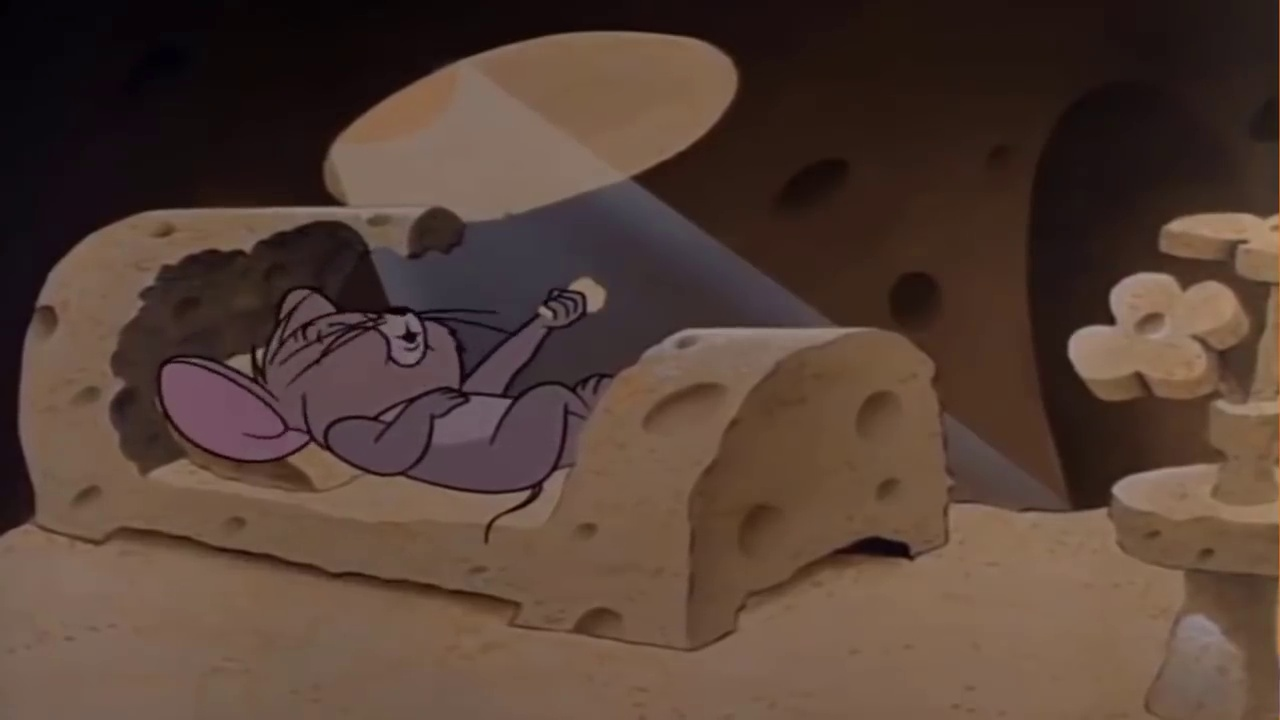face: (296, 304, 455, 389)
